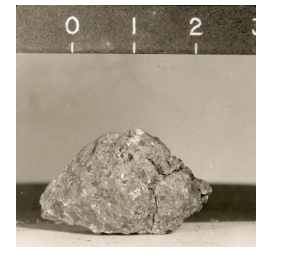Breccia: (30, 123, 227, 236)
